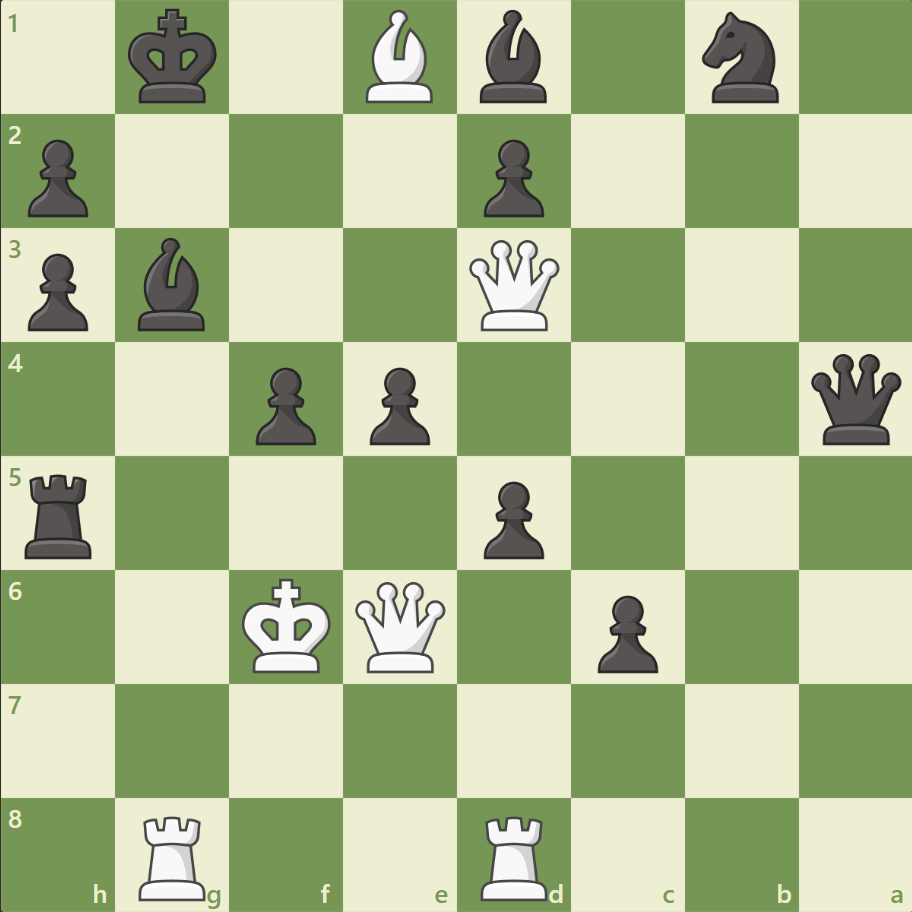B: (358, 6, 442, 109)
K: (238, 571, 338, 679)
Q: (351, 576, 450, 676), (464, 236, 563, 335)
R: (473, 806, 556, 904), (133, 806, 215, 904)
b: (131, 233, 215, 336), (471, 6, 555, 109)
k: (124, 4, 224, 112)
n: (692, 7, 789, 110)
p: (474, 473, 549, 564), (247, 359, 322, 450), (20, 246, 95, 337), (474, 132, 549, 223), (20, 132, 95, 223), (588, 586, 662, 677), (361, 359, 435, 450)
q: (805, 349, 904, 449)
r: (19, 466, 102, 563)
